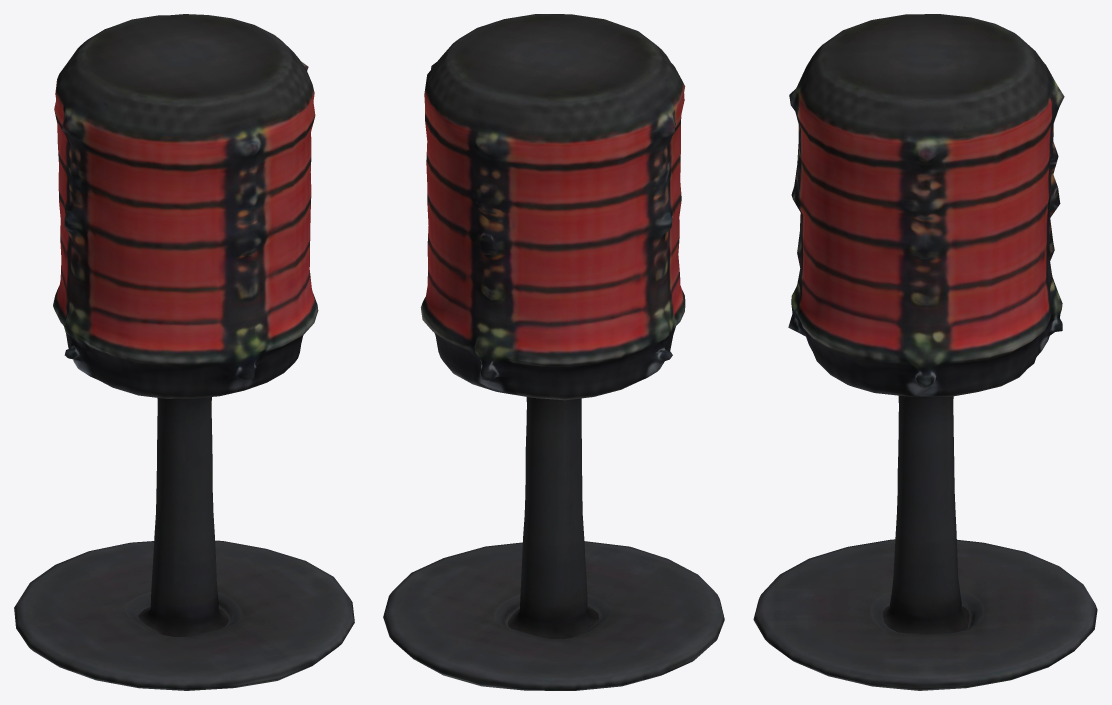
Rendered from efd444de954e_Make_a_Chinese_red_.fbx.
3 views of the same model, side by side, from view 1: azimuth 30°, elevation 25°; view 2: azimuth 150°, elevation 25°; view 3: azimuth 270°, elevation 25° (orthographic).
Visible parts, largest first — view 1: mesh; view 2: mesh; view 3: mesh.
Boxes of the visible parts, bbox=[...] form: mesh: bbox=[14, 14, 354, 690]; mesh: bbox=[383, 14, 724, 690]; mesh: bbox=[753, 14, 1097, 690].
Bounding box in the file's own units: 53.48 × 99.94 × 53.52.
